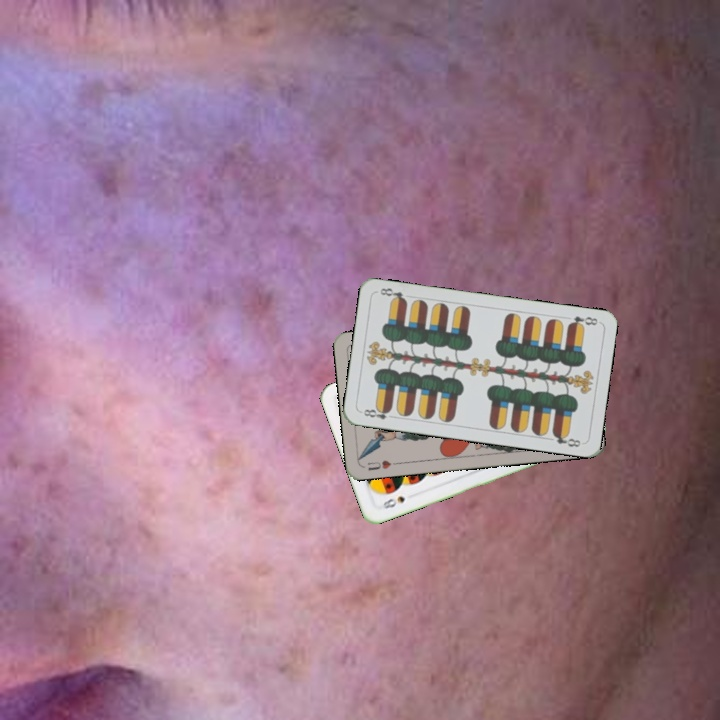E8: (359, 403, 398, 422), (564, 312, 600, 330)
HU: (363, 456, 401, 473)
S8: (376, 492, 407, 512)
